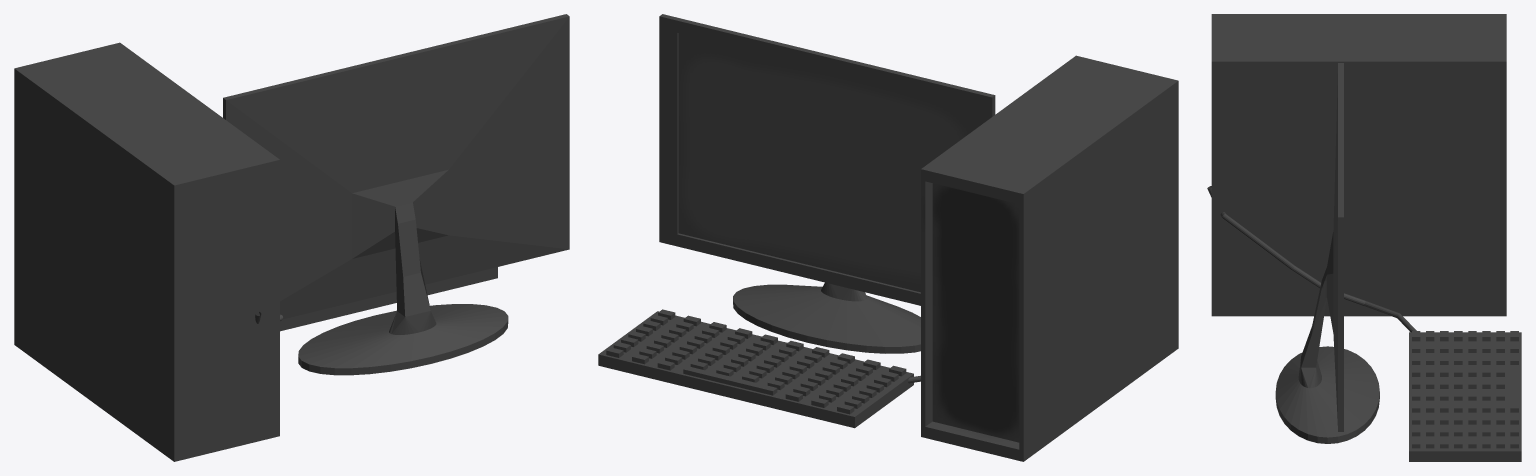
File: 2DesktopComputer.fbx
The picture shows the model from 3 angles, left to right: view 1: azimuth 30°, elevation 25°; view 2: azimuth 150°, elevation 25°; view 3: azimuth 270°, elevation 25°; orthographic projection. The views are drawn at different scales.
Visible parts, largest first — view 1: 2DesktopComputer; view 2: 2DesktopComputer; view 3: 2DesktopComputer.
Boxes of the visible parts, x1,y1,x2,y2 form: 2DesktopComputer: [14, 14, 569, 461]; 2DesktopComputer: [598, 14, 1178, 461]; 2DesktopComputer: [1207, 14, 1521, 461].
Bounding box in the file's own units: 351 × 204 × 223.
